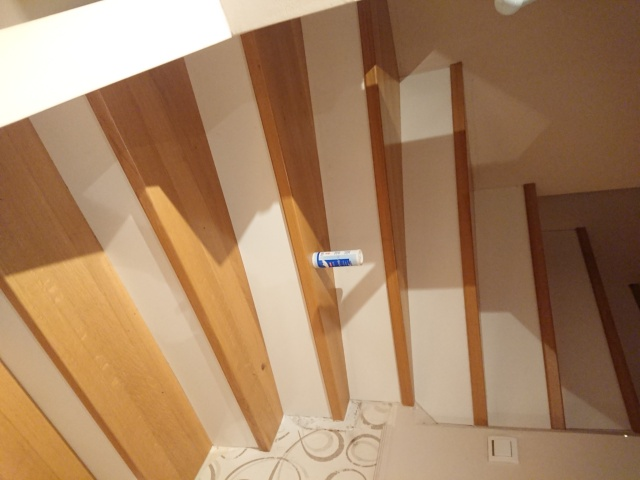Solana Pag Fine Sea Salt 250g: (309, 246, 365, 270)
